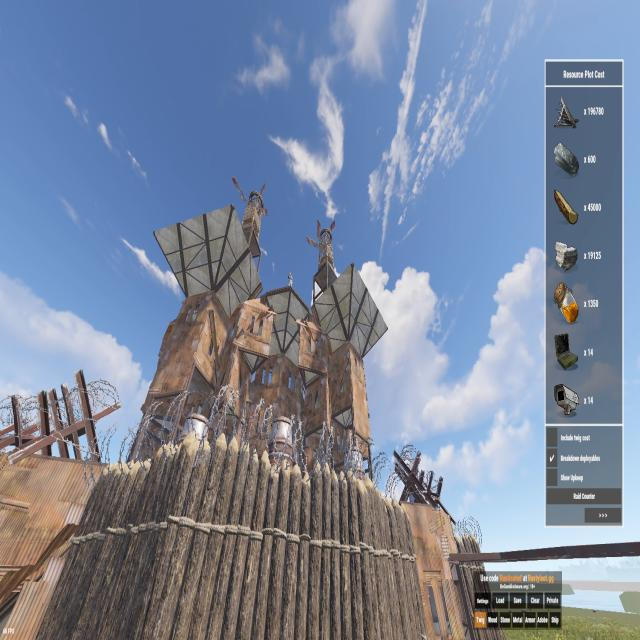Player: (287, 272, 293, 288)
